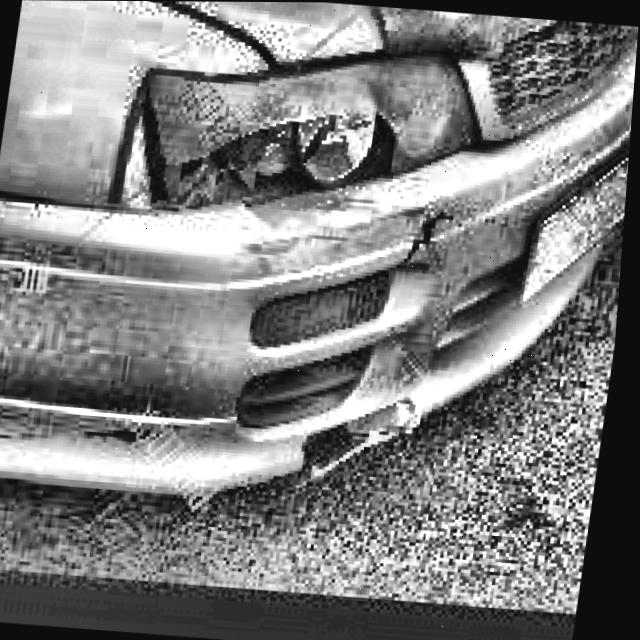head_lamp: (146, 41, 486, 234)
